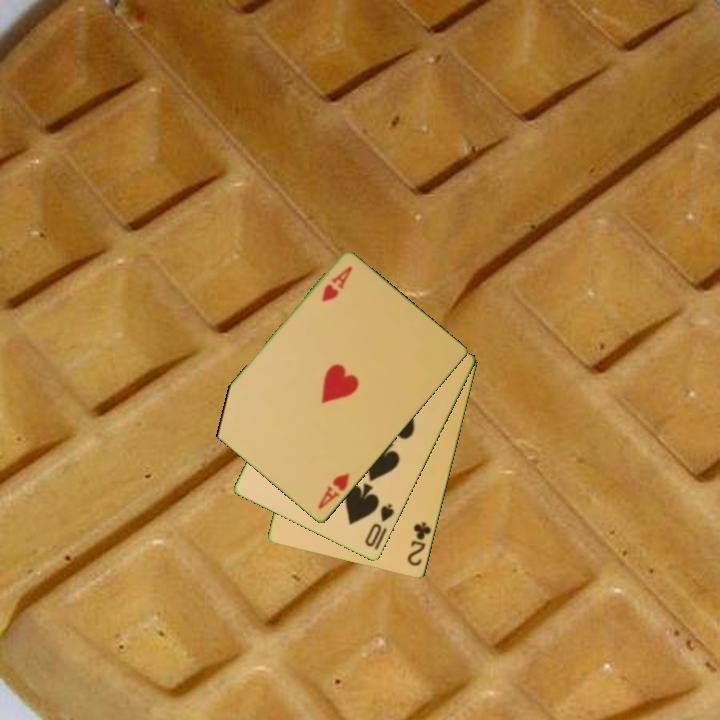10s: (361, 500, 397, 550)
2c: (404, 519, 434, 569)
Ah: (314, 470, 353, 513), (318, 263, 356, 305)
